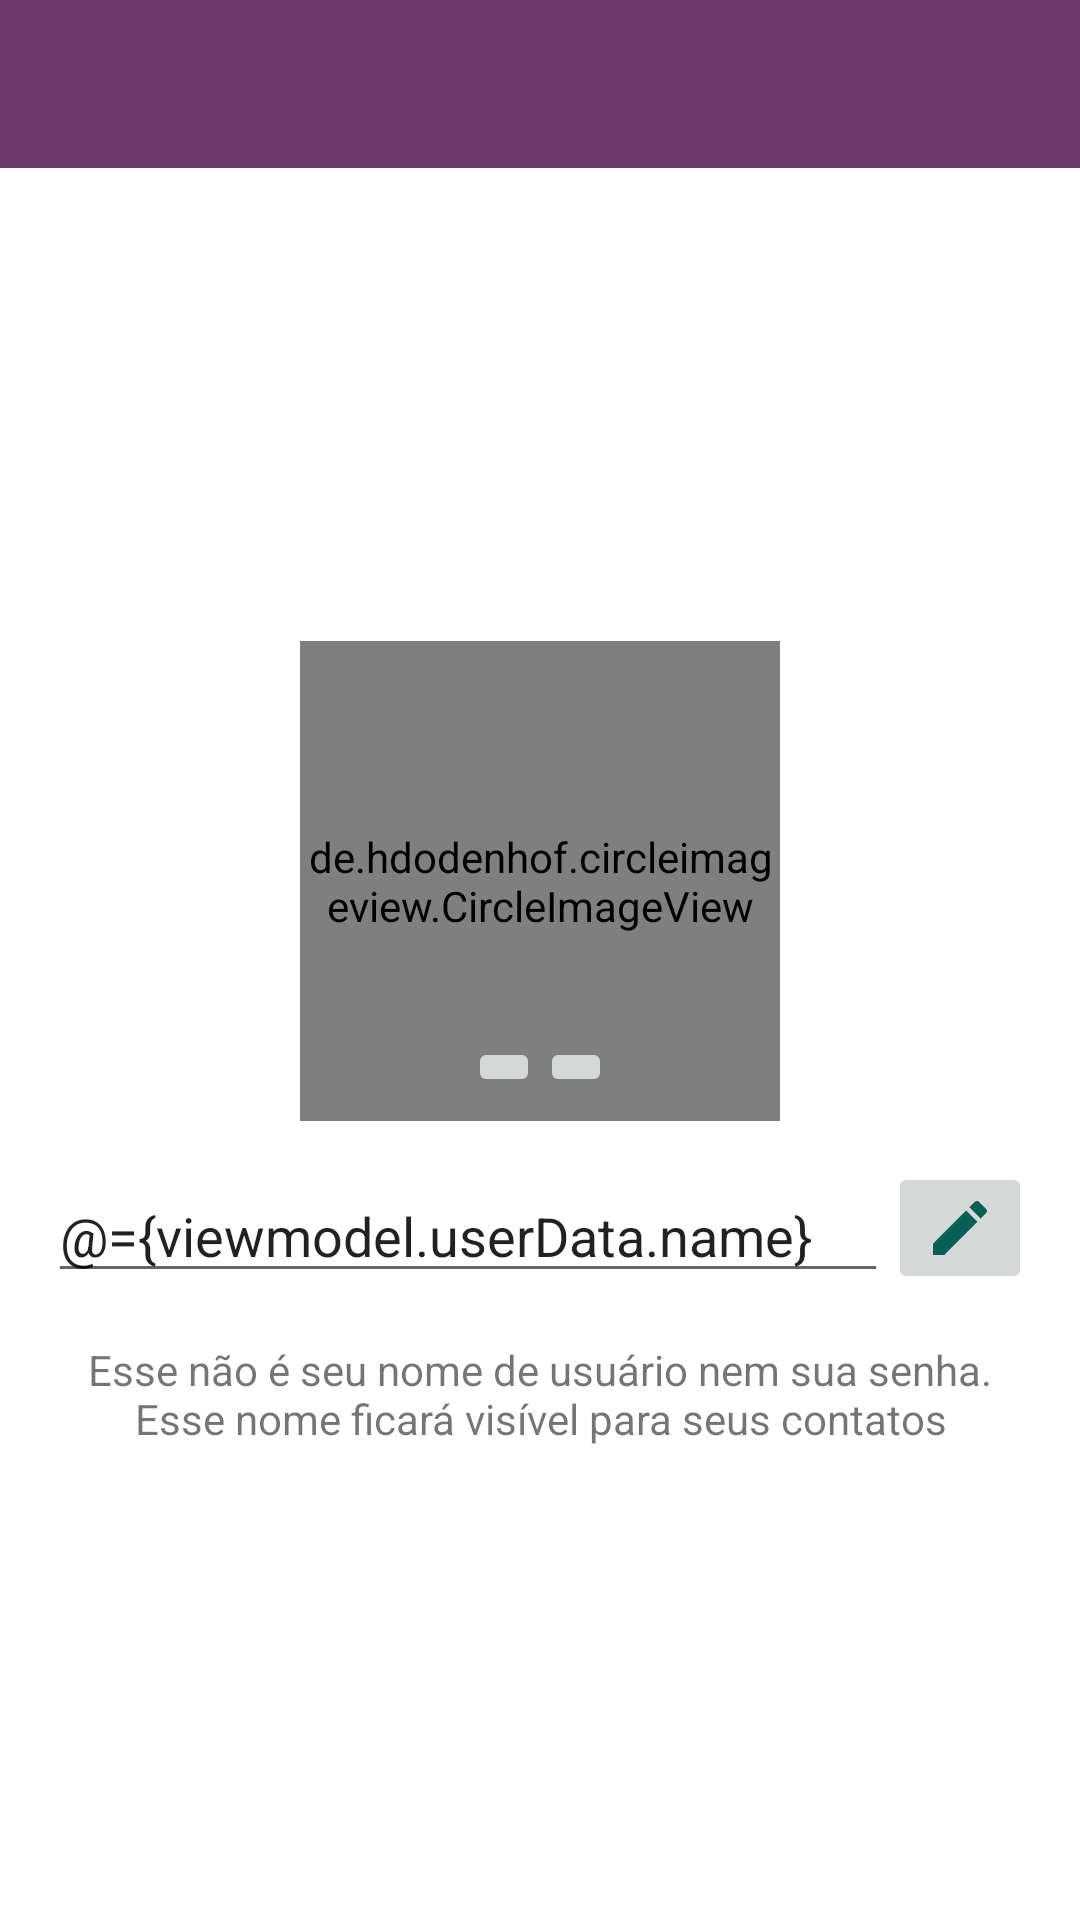

Named icons in this screenshot (1080px x 1920px) and their centers, point (x, y):
edit: point (960, 1228)
